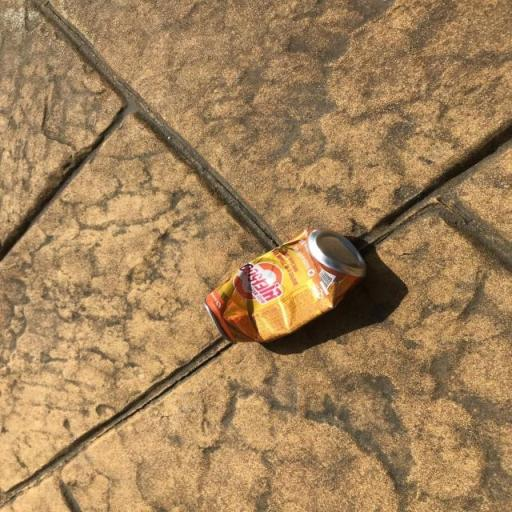metal: (177, 210, 392, 365)
